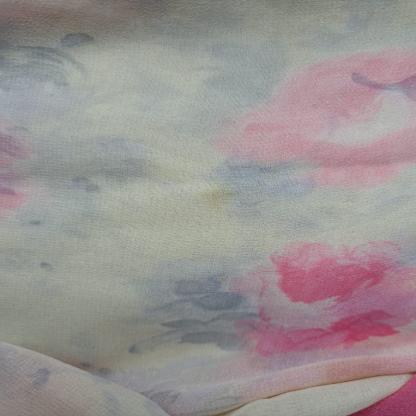spot: (31, 155, 174, 183), (202, 184, 260, 220), (216, 276, 233, 282)
